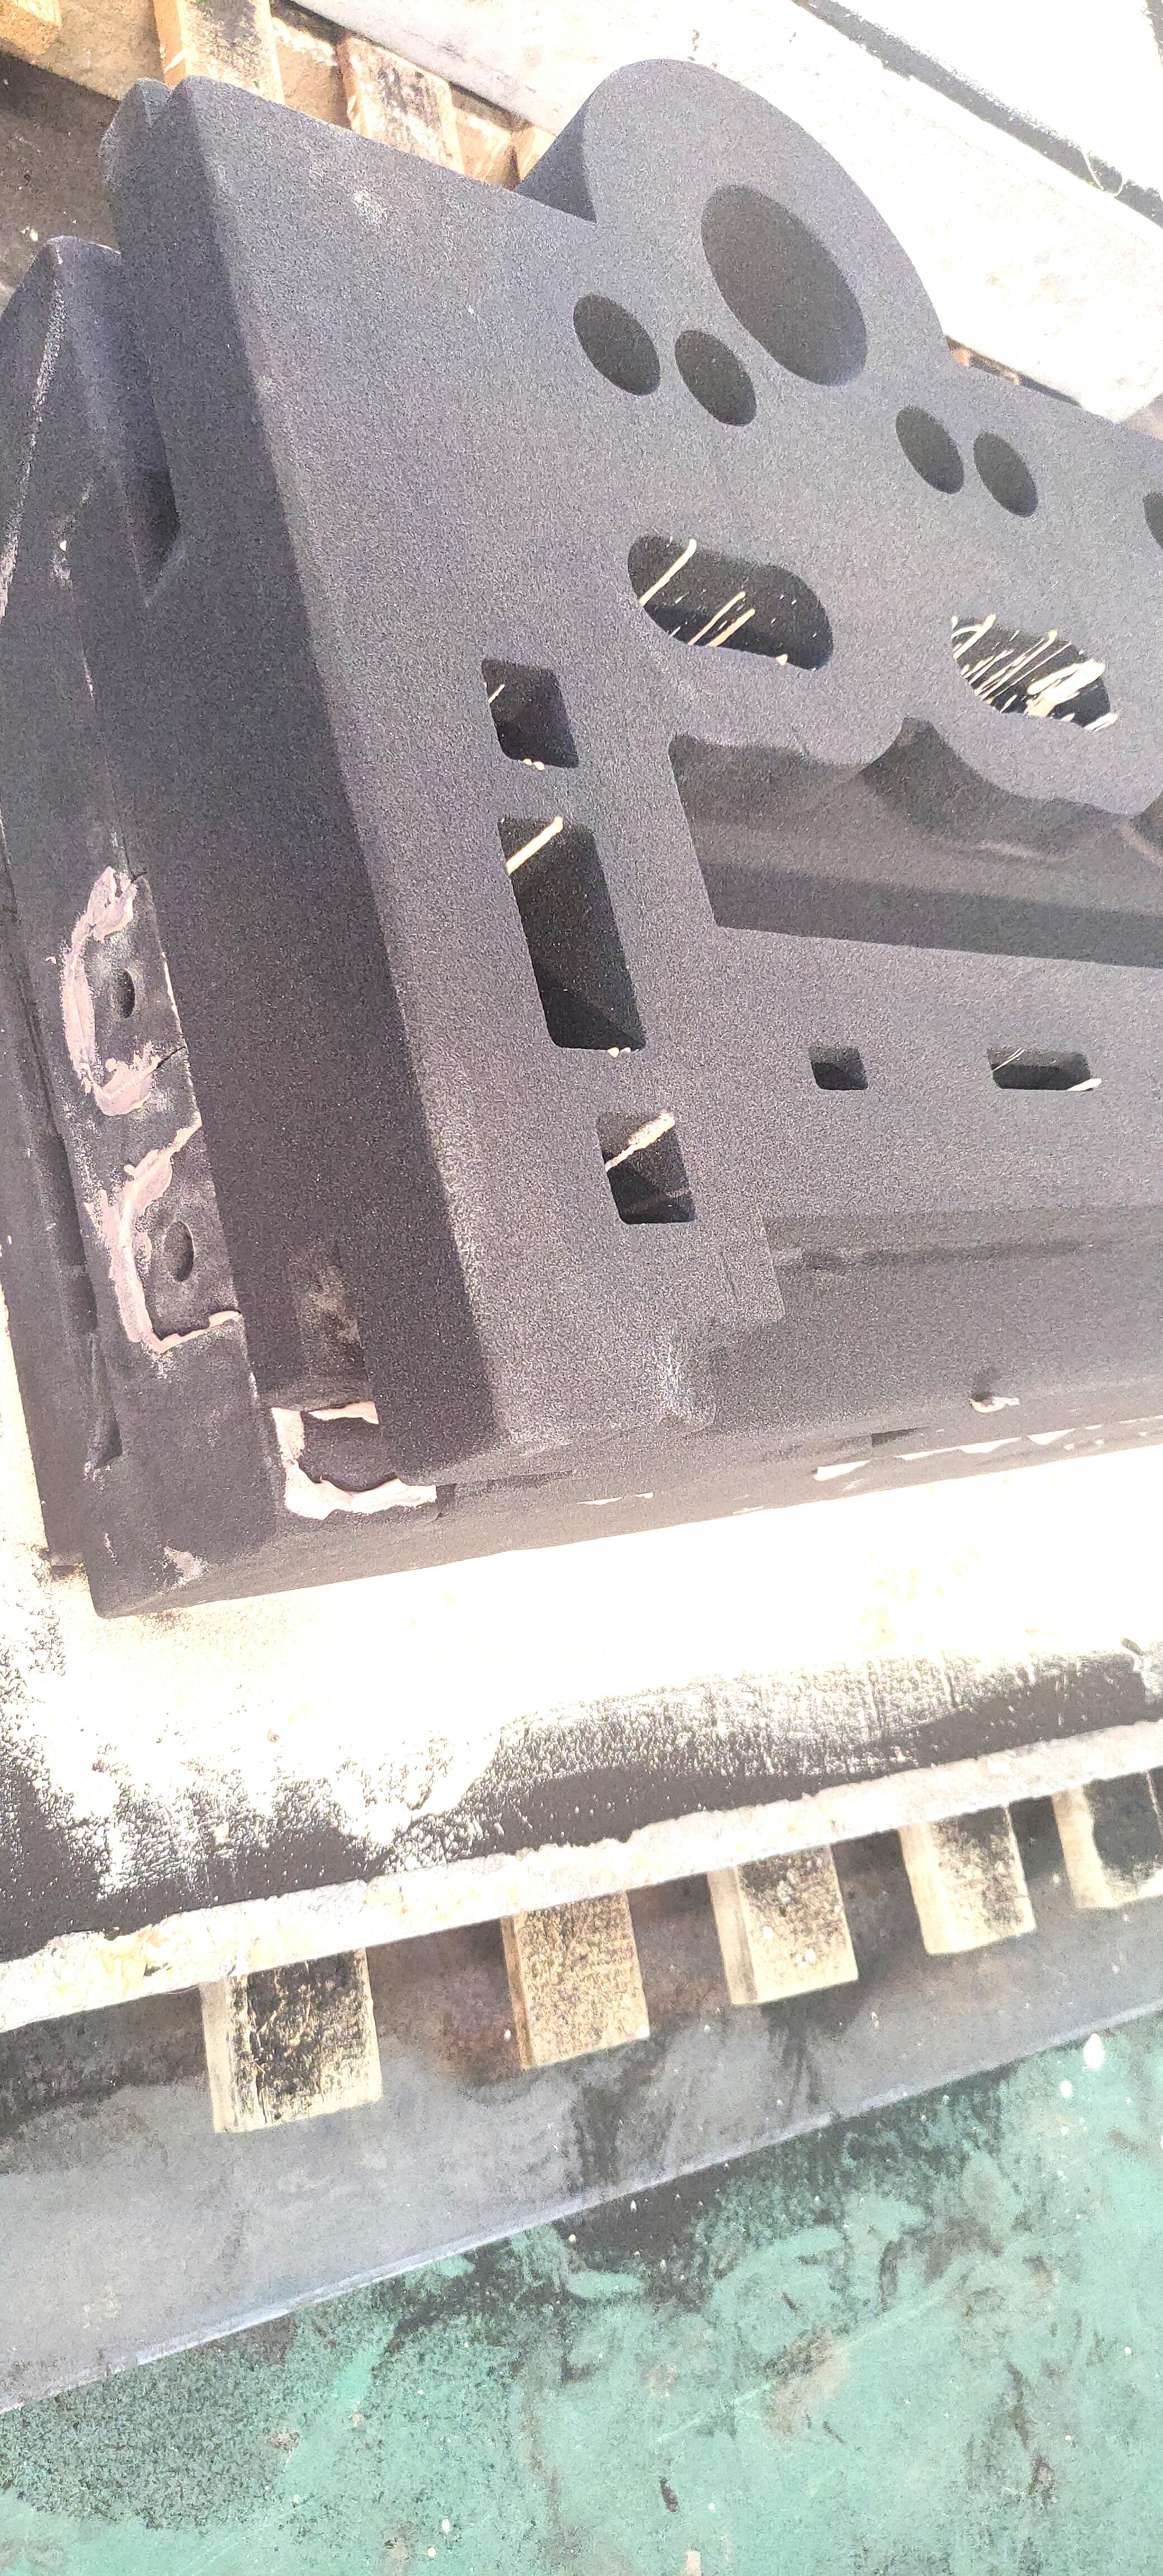pouring hole: (700, 184, 869, 389)
